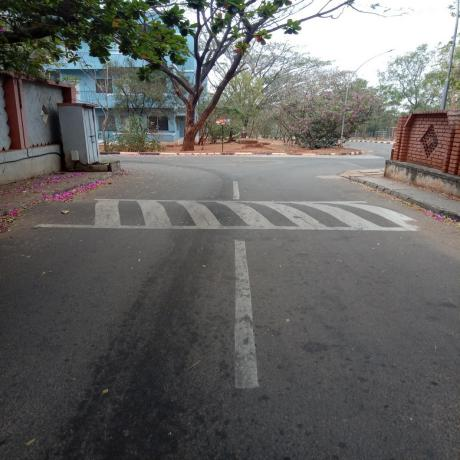Speed Bump: (19, 198, 430, 230)
